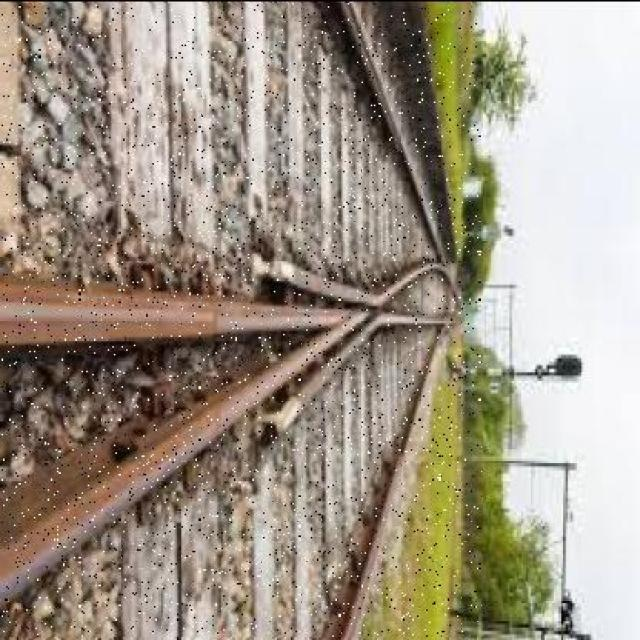rail: (3, 3, 482, 636)
